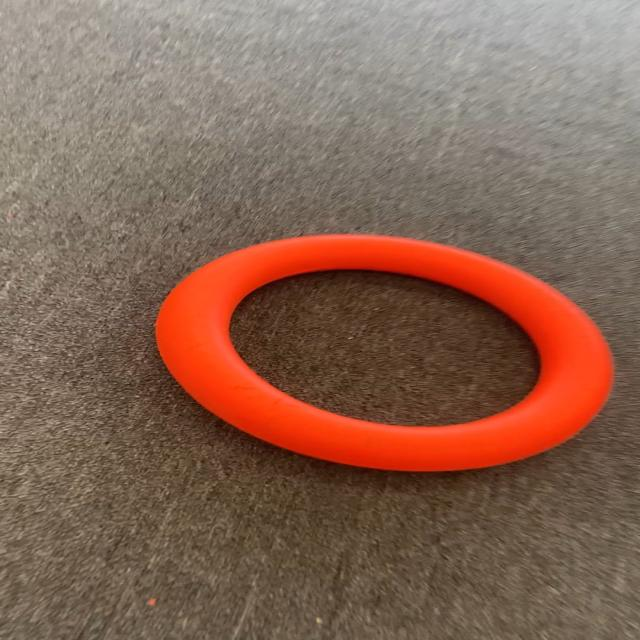notes: (147, 231, 617, 474)
